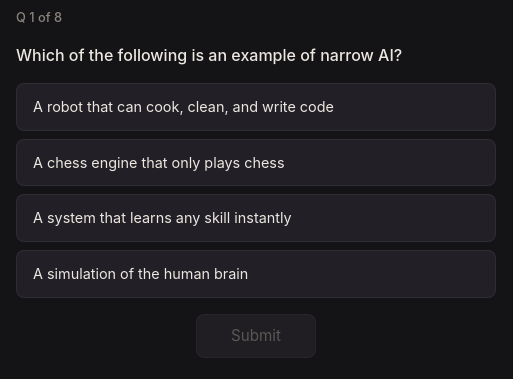
Scenario: QuizViewer › QUIZ-02: Submit button shows correct/incorrect feedback after answering
// Select an option
Click the button "A robot that can cook, clean, and write code".
click(256, 107)  # box [16, 83, 496, 131]
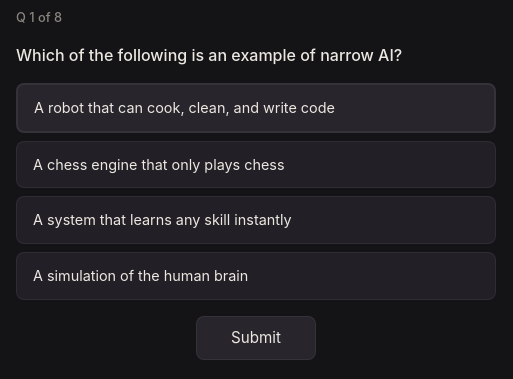
// Click Submit
Click the button "Submit".
click(256, 338)  # box [196, 316, 316, 360]
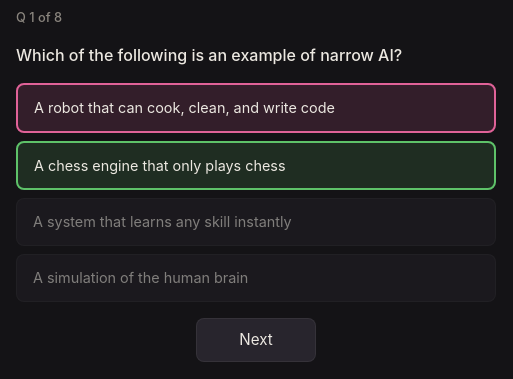
Result: the button "Next" is shown at [196, 318, 316, 362]
